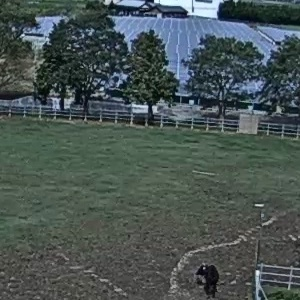cow: (191, 254, 227, 300)
